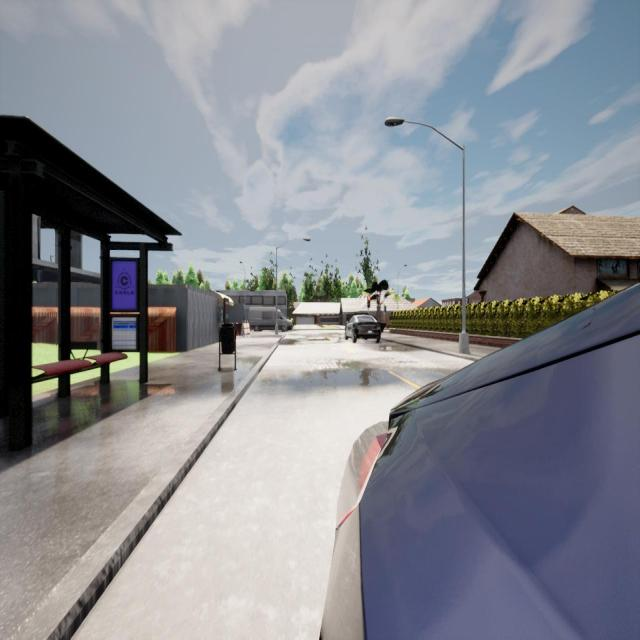Vehicle: (321, 283, 640, 640), (248, 306, 294, 332), (345, 312, 382, 343)
traffic_light: (368, 296, 370, 308)
